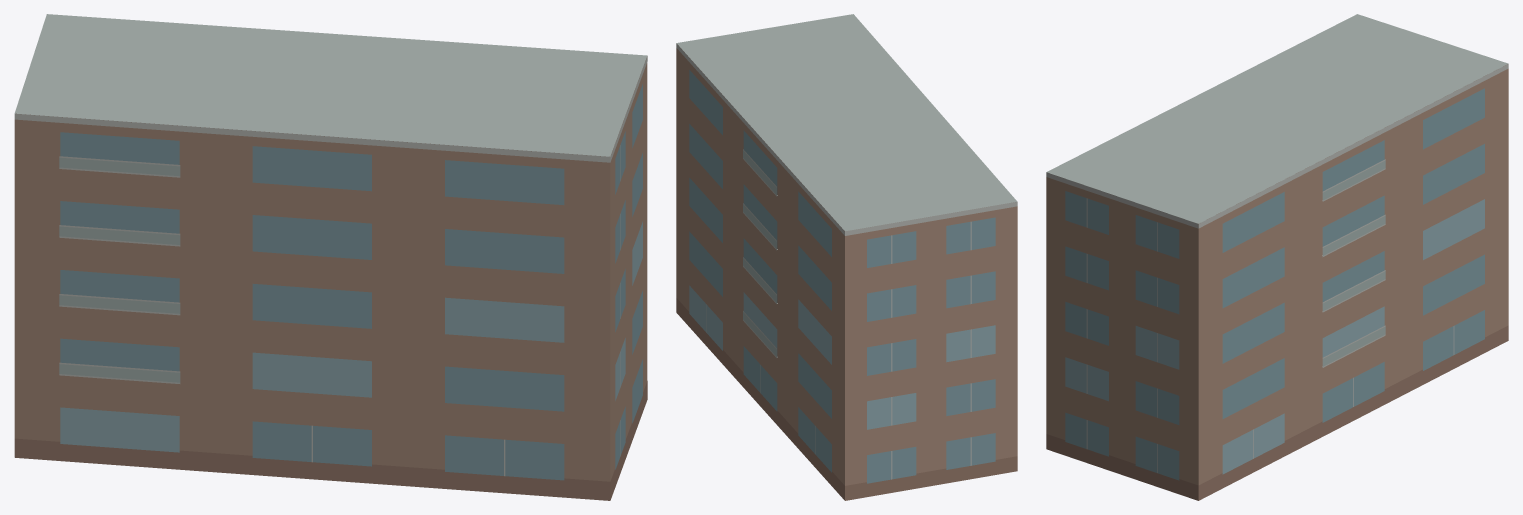
Rendered from survey-upis-32670115.glb.
3 views of the same model, side by side, from view 1: azimuth 30°, elevation 25°; view 2: azimuth 150°, elevation 25°; view 3: azimuth 270°, elevation 25° (orthographic). The views are drawn at different scales.
Parts seen in each view (by area): view 1: survey-upis-32670115.tmp; view 2: survey-upis-32670115.tmp; view 3: survey-upis-32670115.tmp.
Boxes of the visible parts, left/top/right/bottom form: survey-upis-32670115.tmp: left=14, top=14, right=647, bottom=500; survey-upis-32670115.tmp: left=676, top=14, right=1017, bottom=500; survey-upis-32670115.tmp: left=1046, top=14, right=1508, bottom=500.
Size of the model in its own units: 23 by 14.15 by 21.41.
